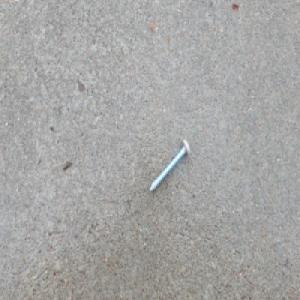Nail: (147, 136, 191, 195)
